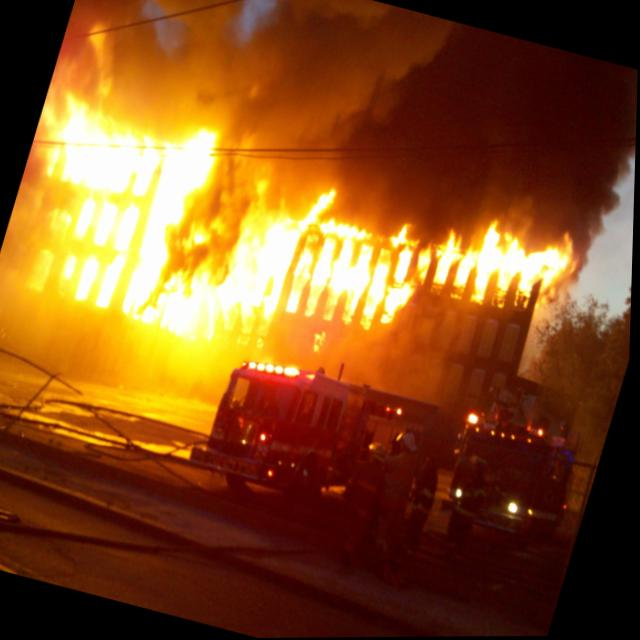fire: (0, 67, 600, 430)
